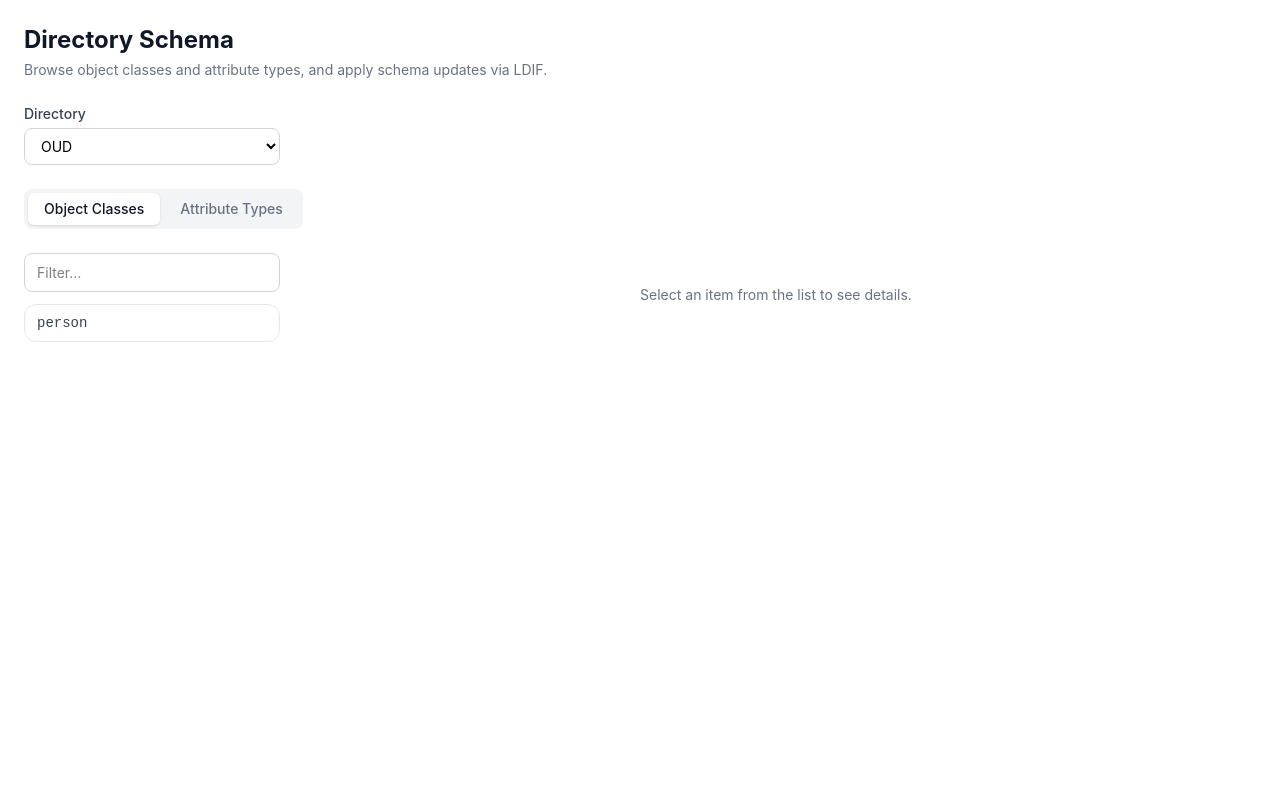
SchemaBrowserView attribute detail › shows the resolved syntax name, OID, and length hint
Click the button "Attribute Types": (232, 209) [164,193,299,225]
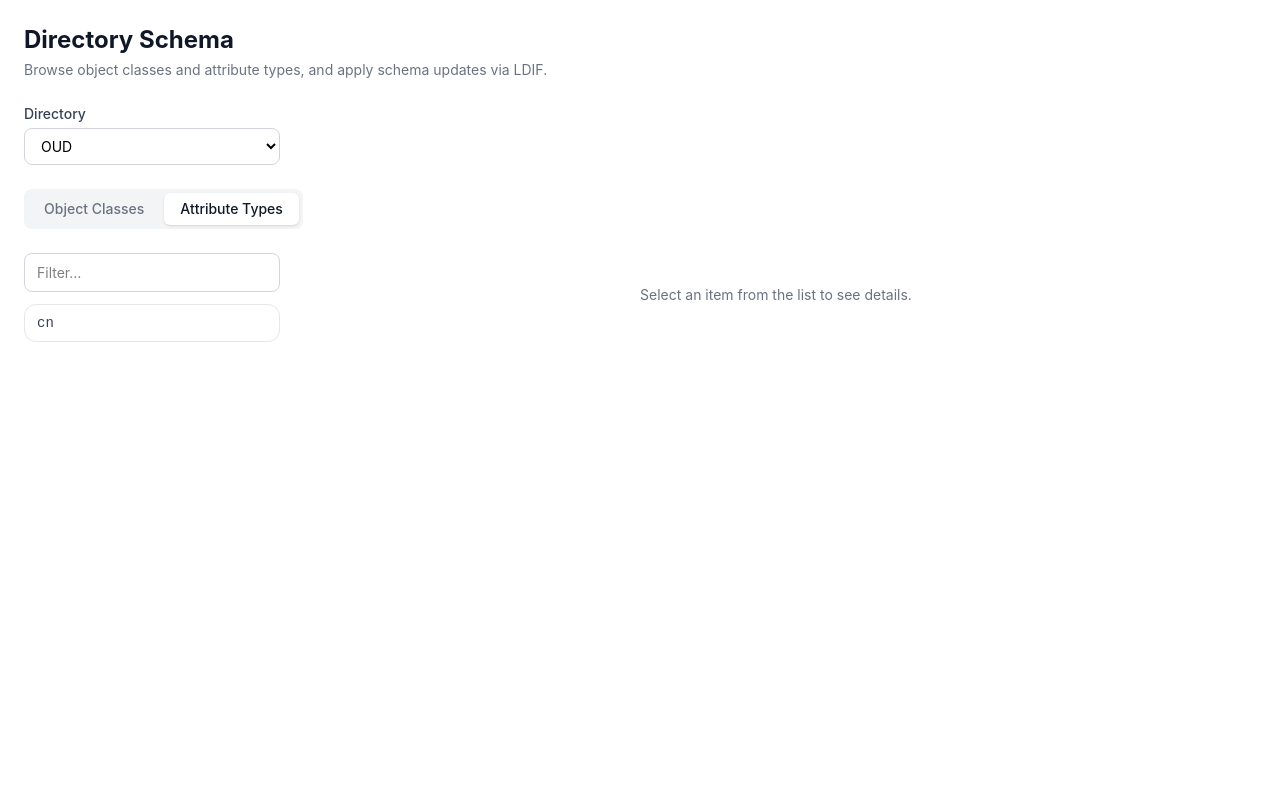
Click the button "cn": (152, 323) [25,305,279,341]
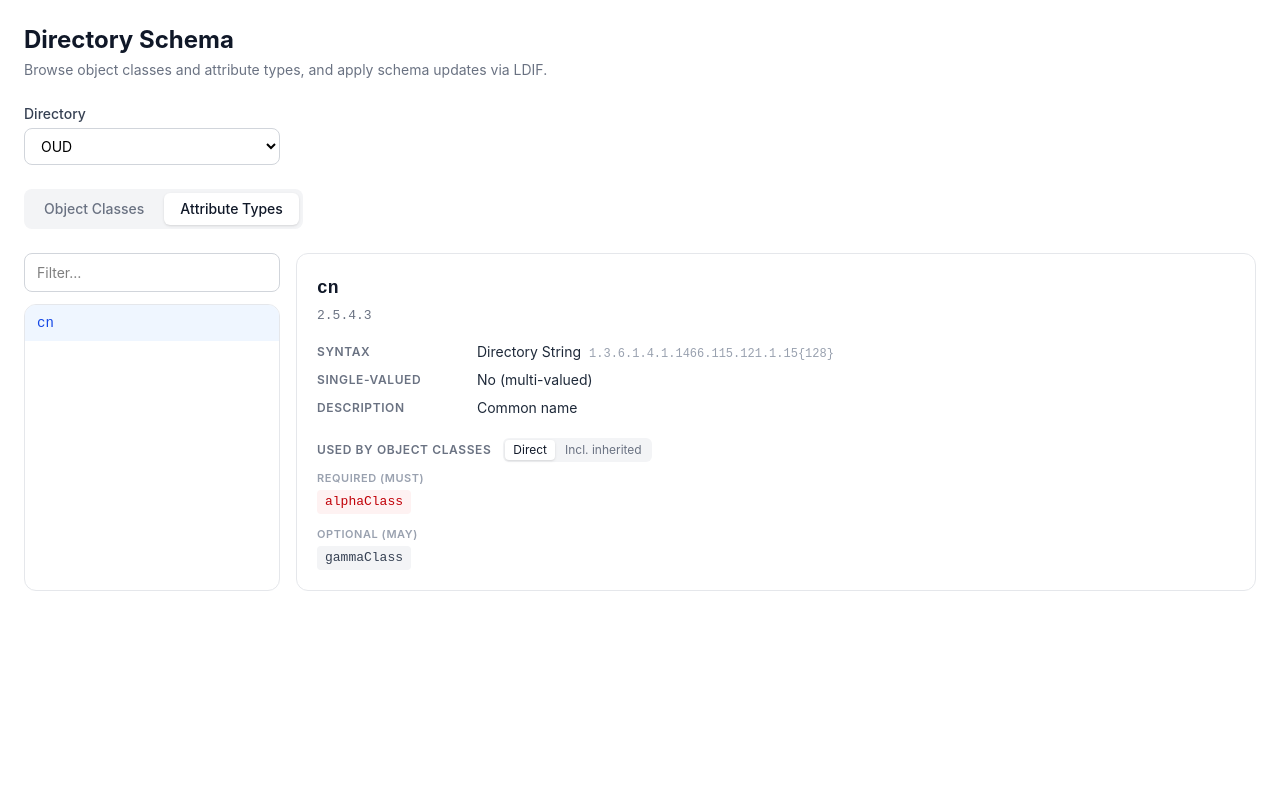
expect the text "Directory String" is shown: met, box [477,342,581,360]
expect the text "1.3.6.1.4.1.1466.115.121.1.15" is shown: met, box [589,346,834,360]
expect the text "{128}" is shown: met, box [589,346,834,360]
